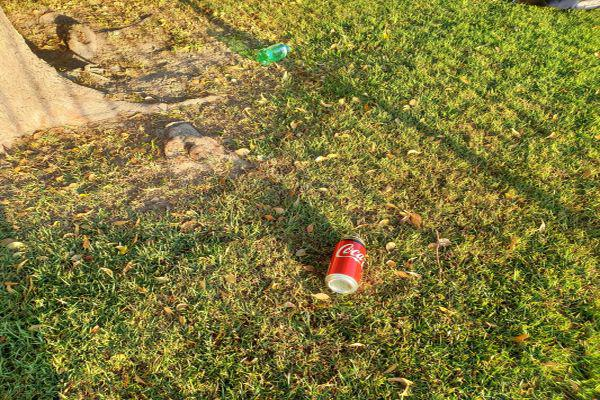Plastic Bottle: (325, 235, 368, 295), (256, 42, 291, 66)
